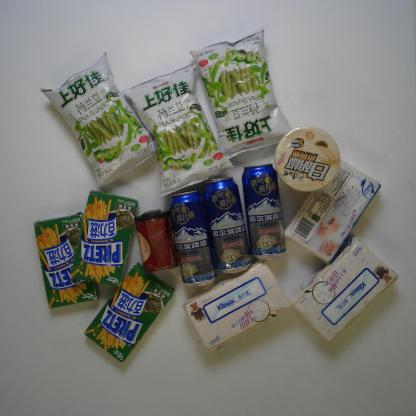Alcohol: (168, 190, 218, 288), (204, 175, 251, 276), (241, 164, 288, 262)
Canned Food: (135, 208, 178, 274)
Dessert: (82, 260, 177, 362), (70, 189, 142, 287), (33, 209, 98, 310)
Instant Noodles: (274, 125, 340, 194)
Puffed Food: (40, 48, 156, 190), (122, 61, 237, 198), (188, 27, 295, 162)
Tissue: (294, 235, 398, 342), (182, 260, 293, 353), (285, 161, 384, 263)
